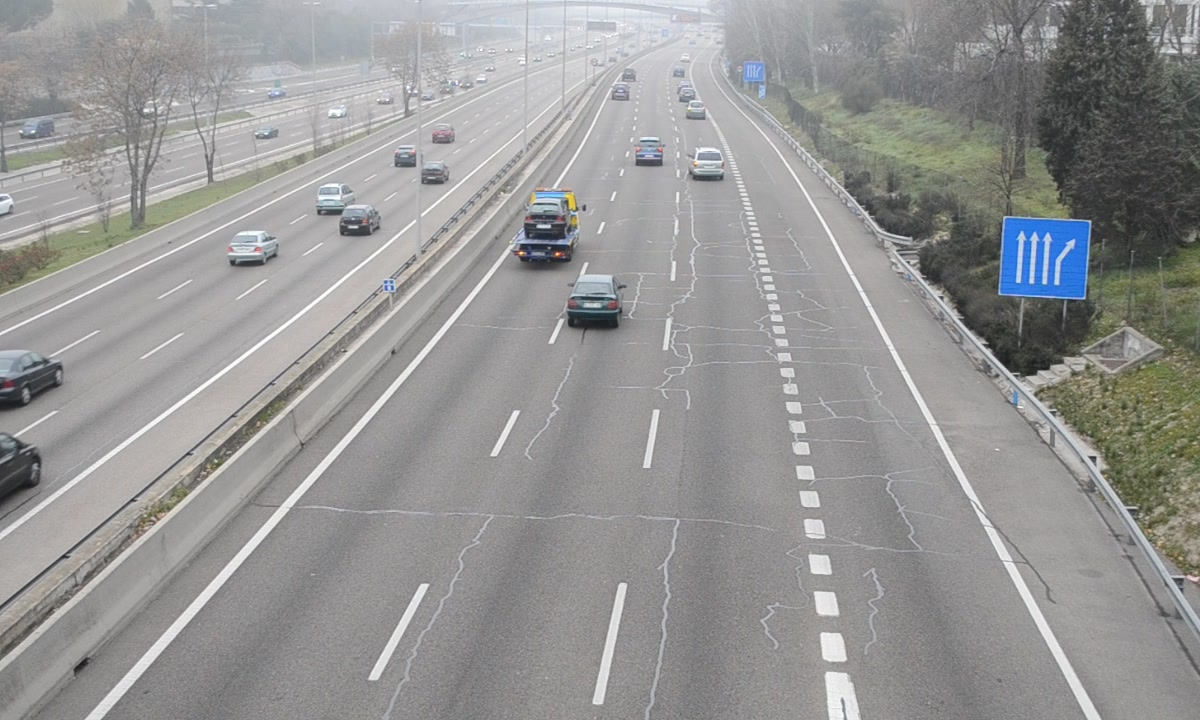car: (568, 274, 623, 326), (689, 148, 727, 178), (635, 137, 665, 165)
small-truck: (512, 190, 581, 264)
